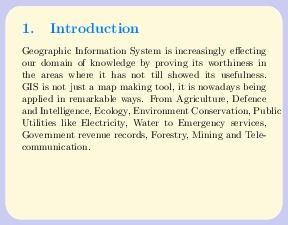paragraph: (22, 42, 285, 164)
title: (44, 19, 154, 40)
